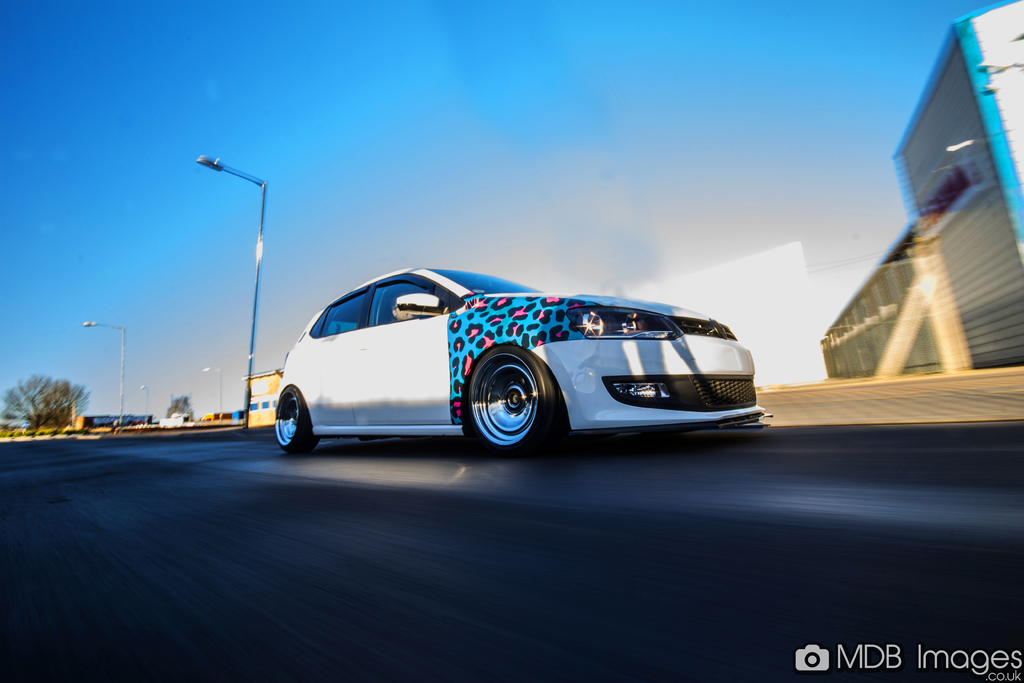Car: (271, 262, 767, 460)
